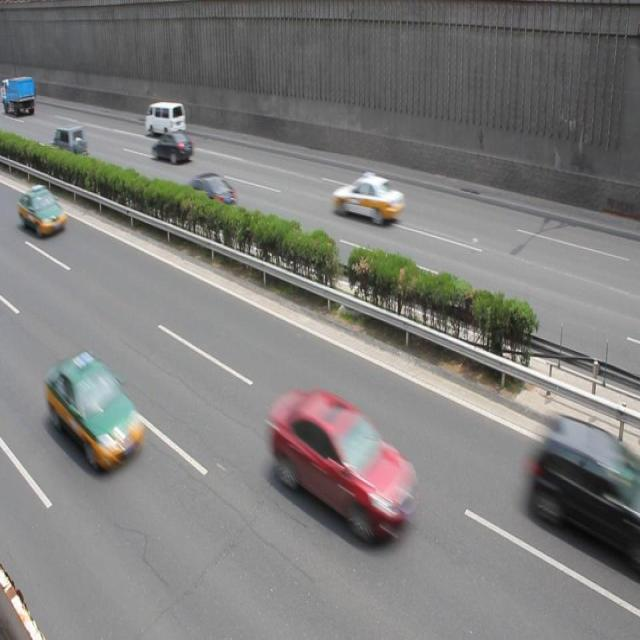car: (268, 389, 418, 544), (46, 347, 146, 473), (330, 169, 405, 224), (179, 169, 237, 224), (18, 183, 67, 238), (152, 129, 194, 166), (50, 125, 88, 164)
truck: (144, 102, 186, 136)
